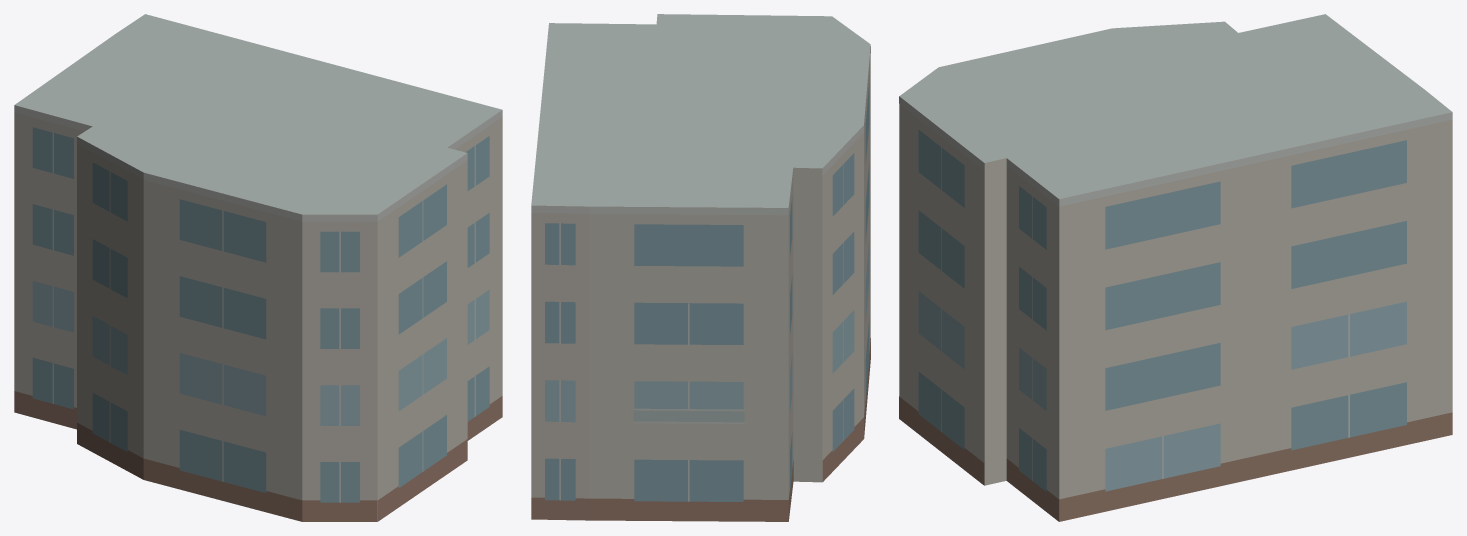
Rendered from survey-upis-32894210.glb.
The picture shows the model from 3 angles, left to right: view 1: azimuth 30°, elevation 25°; view 2: azimuth 150°, elevation 25°; view 3: azimuth 270°, elevation 25°; orthographic projection. The views are drawn at different scales.
Parts seen in each view (by area): view 1: survey-upis-32894210.tmp; view 2: survey-upis-32894210.tmp; view 3: survey-upis-32894210.tmp.
Boxes of the visible parts, <box> form: survey-upis-32894210.tmp: <box>14,14,502,521</box>; survey-upis-32894210.tmp: <box>531,14,870,521</box>; survey-upis-32894210.tmp: <box>899,14,1452,521</box>.
Bounding box in the file's own units: 12.93 × 10.5 × 16.33.
